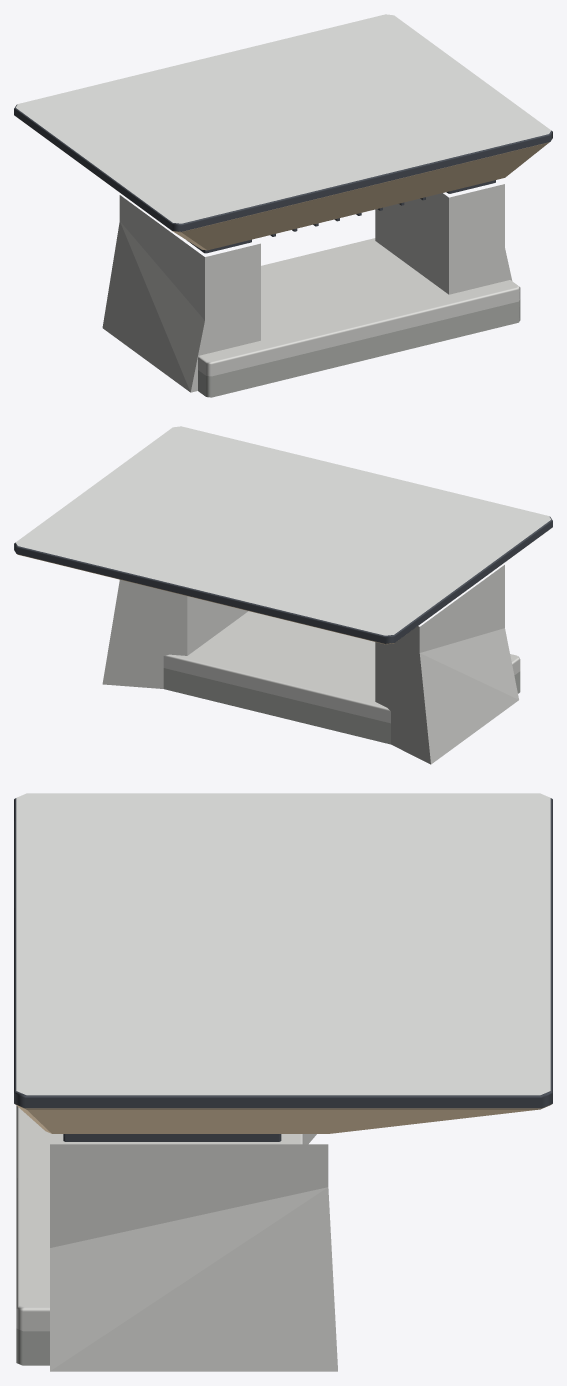
Rendered from ballantyne-bowl.glb.
3 renders of one model, top to bottom at view 1: azimuth 30°, elevation 25°; view 2: azimuth 150°, elevation 25°; view 3: azimuth 270°, elevation 25°, orthographic. The views are drawn at different scales.
Parts seen in each view (by area): view 1: The Amp Ballantyne; view 2: The Amp Ballantyne; view 3: The Amp Ballantyne.
Boxes of the visible parts, x1,y1,x2,y2 form: The Amp Ballantyne: [14, 14, 552, 397]; The Amp Ballantyne: [14, 426, 552, 764]; The Amp Ballantyne: [14, 793, 552, 1371].
Size of the model in its own units: 32 by 14.55 by 24.
